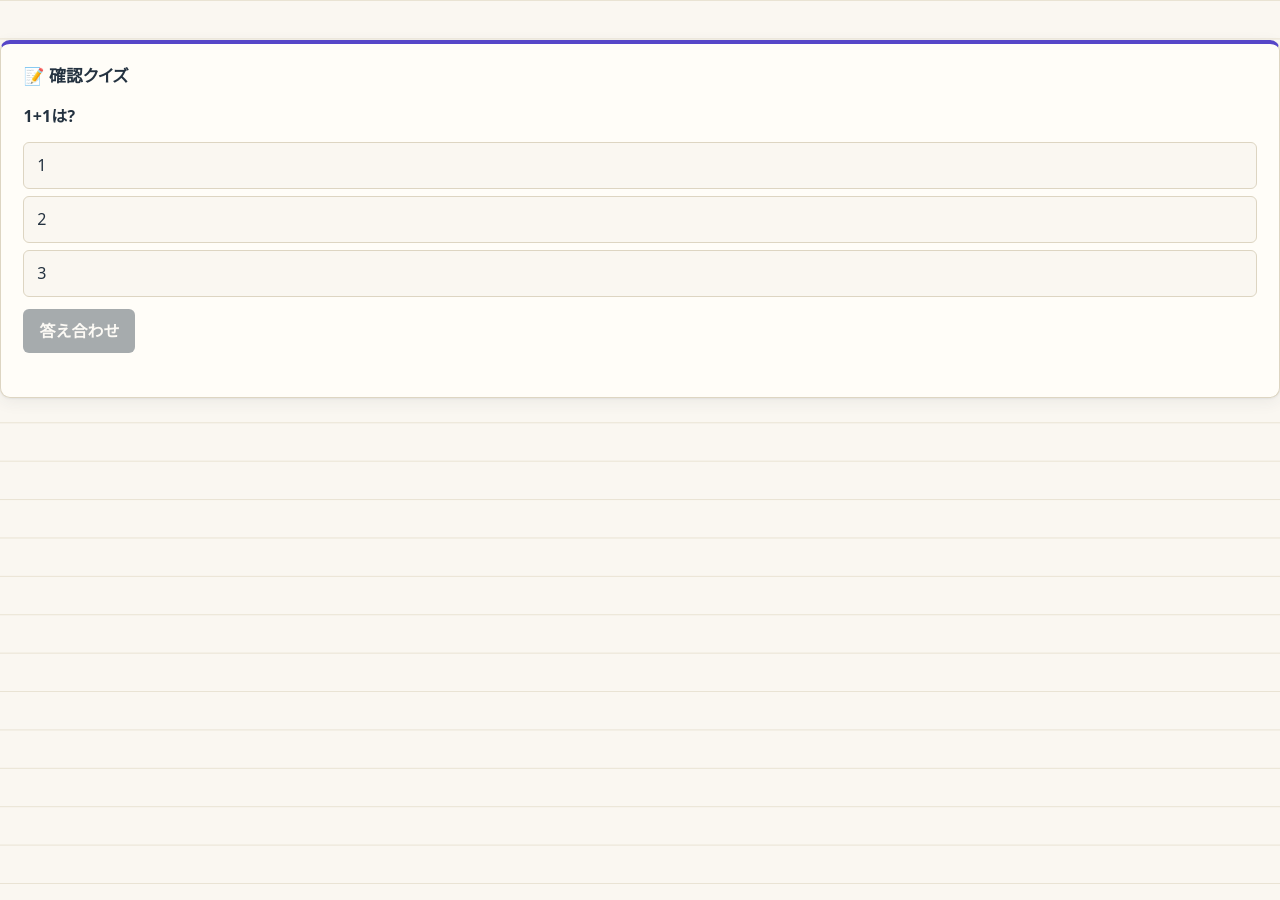
Test: QuizBlock › choosing again resets the state
Click the button "1" at (42, 165), box [23, 142, 1257, 189]
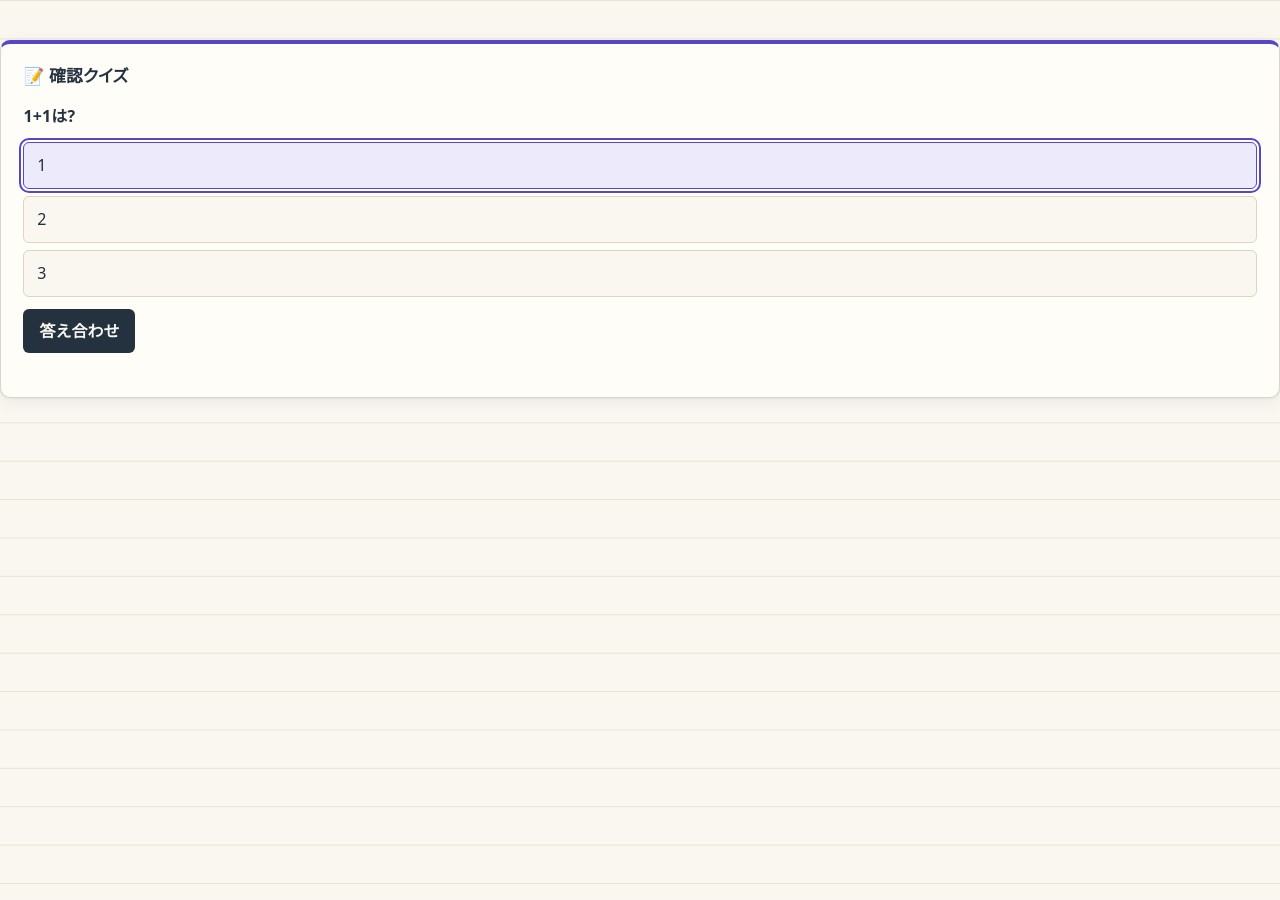
Click the button "答え合わせ" at (79, 331), box [23, 309, 135, 353]
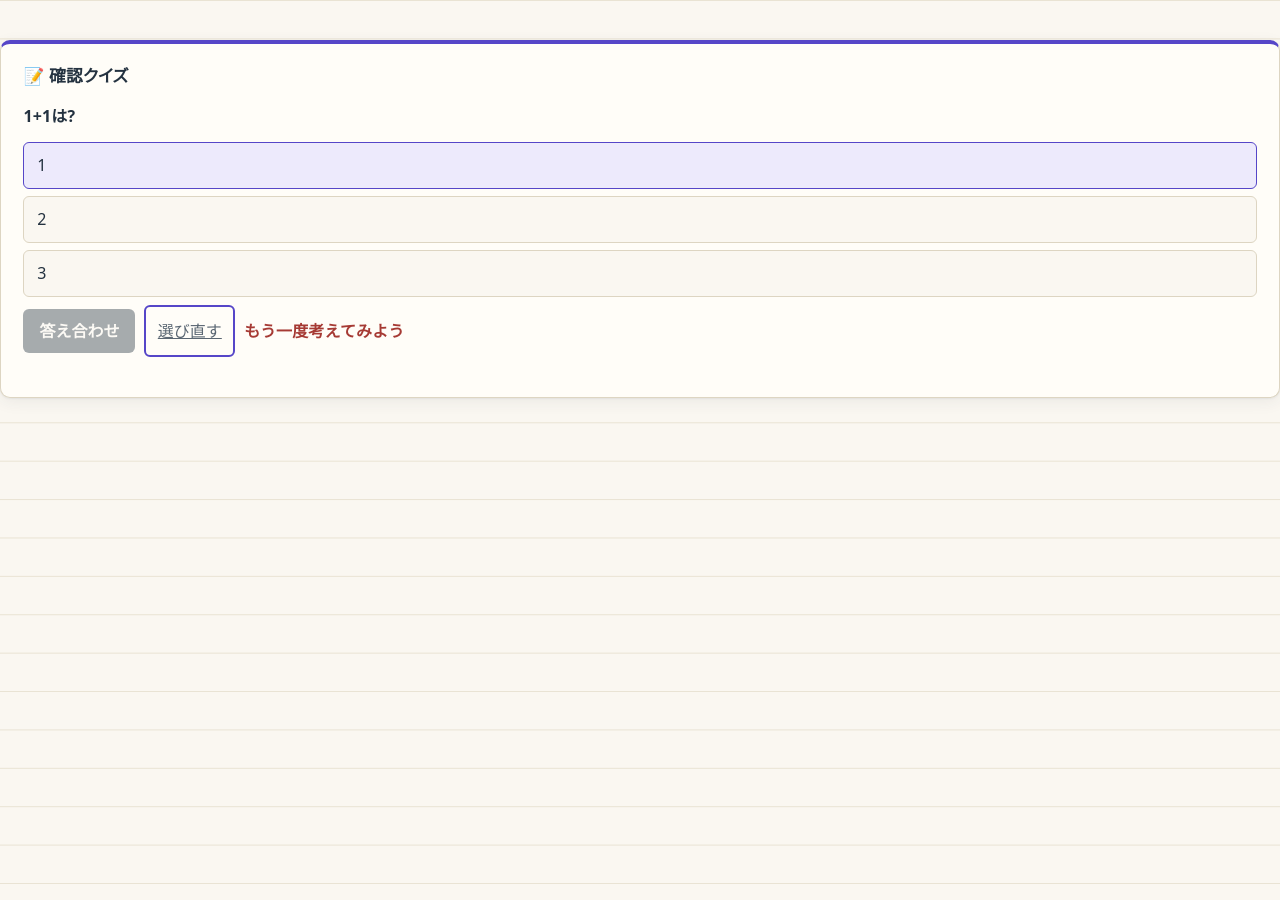
Check: the text "もう一度考えてみよう" is shown, box [244, 318, 404, 345]
Click the button "選び直す" at (190, 331), box [148, 309, 231, 353]
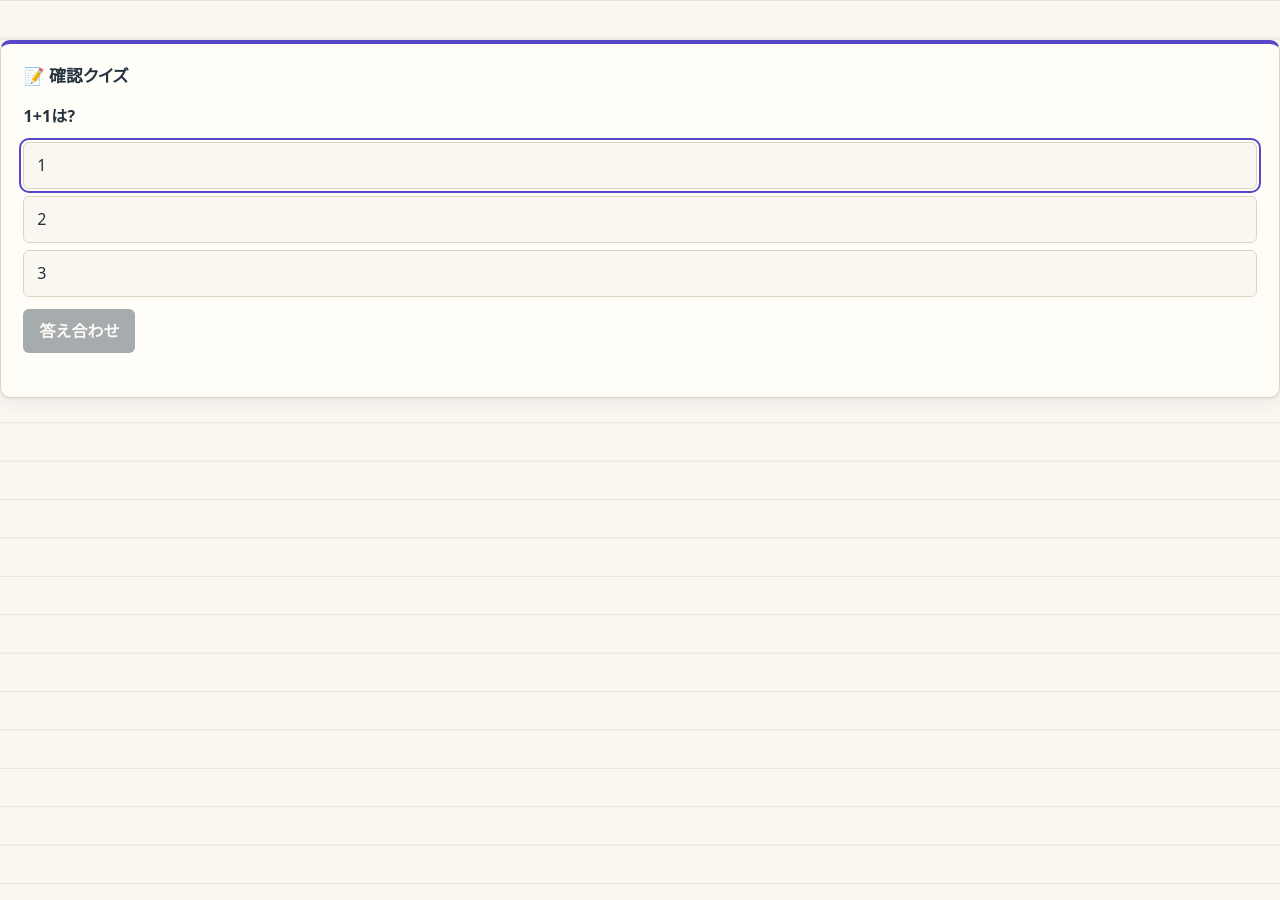
Check: the button "答え合わせ" is disabled, box [23, 309, 135, 353]
Check: the text "もう一度考えてみよう" is gone
